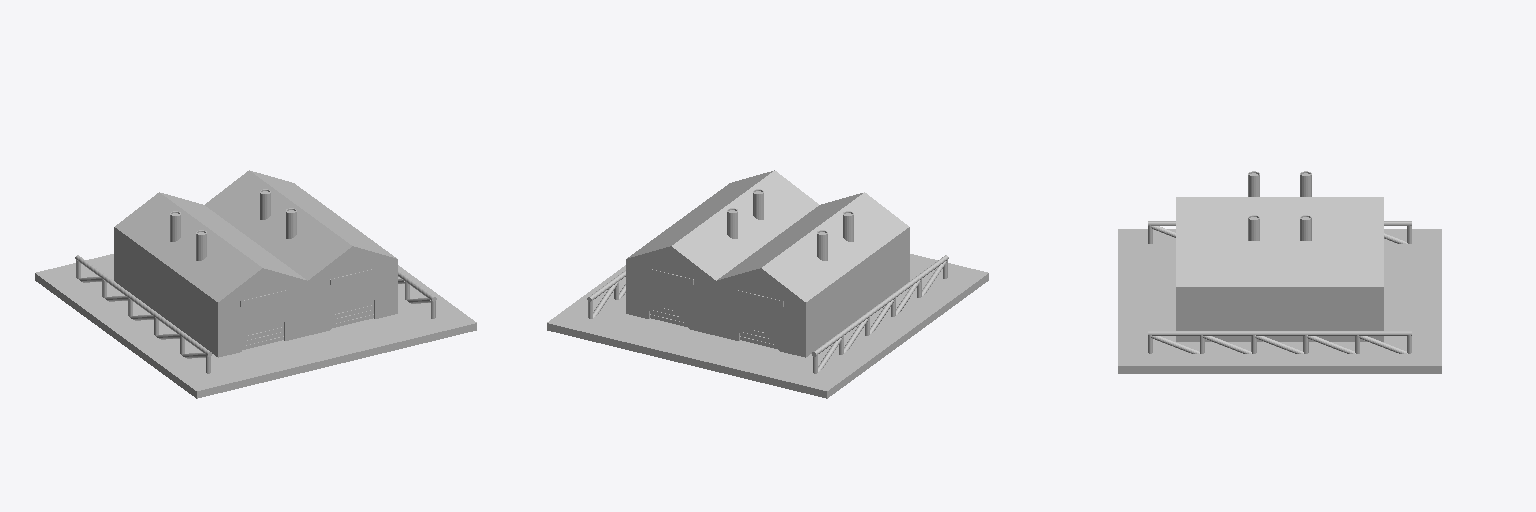
Rendered from AlmacenMateriaPrima Placing.obj.
3 renders of one model, left to right at view 1: azimuth 30°, elevation 25°; view 2: azimuth 150°, elevation 25°; view 3: azimuth 270°, elevation 25°, orthographic.
Visible parts, largest first — view 1: Floor, Sides1 MainBuilding2 MainBuilding, MainBuilding1 MainBuilding1 Sides2, MainBuilding2 MainBuilding FrontAndBack1, MainBuilding1 FrontAndBack2 MainBuilding1, MainBuilding1 MainBuildingEntrance1, MainBuilding MainBuildingEntrance2; view 2: Floor, Sides1 MainBuilding2 MainBuilding, MainBuilding1 MainBuilding1 Sides2, MainBuilding2 MainBuilding FrontAndBack1, MainBuilding1 FrontAndBack2 MainBuilding1; view 3: Floor, MainBuilding1 MainBuilding1 Sides2, Sides1 MainBuilding2 MainBuilding.
Boxes of the visible parts, <box> form: Floor: <box>35,254,476,398</box>; Sides1 MainBuilding2 MainBuilding: <box>114,192,305,356</box>; MainBuilding1 MainBuilding1 Sides2: <box>205,170,396,318</box>; MainBuilding2 MainBuilding FrontAndBack1: <box>218,268,307,357</box>; MainBuilding1 FrontAndBack2 MainBuilding1: <box>308,246,397,335</box>; MainBuilding1 MainBuildingEntrance1: <box>332,300,373,327</box>; MainBuilding MainBuildingEntrance2: <box>242,322,283,349</box>; Floor: <box>547,254,988,398</box>; Sides1 MainBuilding2 MainBuilding: <box>718,192,909,356</box>; MainBuilding1 MainBuilding1 Sides2: <box>627,170,818,318</box>; MainBuilding2 MainBuilding FrontAndBack1: <box>716,268,805,357</box>; MainBuilding1 FrontAndBack2 MainBuilding1: <box>626,246,715,335</box>; Floor: <box>1118,229,1441,373</box>; MainBuilding1 MainBuilding1 Sides2: <box>1176,241,1383,341</box>; Sides1 MainBuilding2 MainBuilding: <box>1176,197,1383,240</box>.
Size of the model in its own units: 200 by 67.1 by 200.